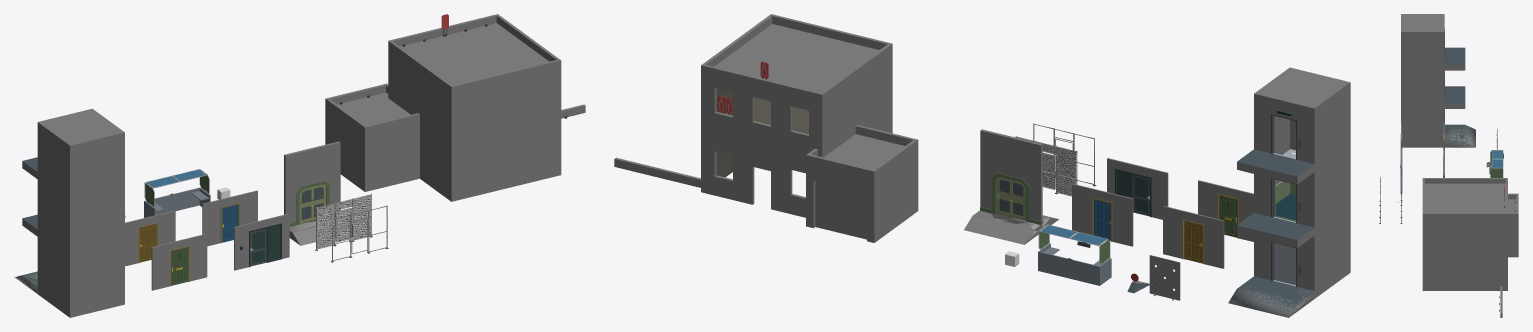
The model's file is FeatureDemoProps.FBX.
3 views of the same model, side by side, from view 1: azimuth 30°, elevation 25°; view 2: azimuth 150°, elevation 25°; view 3: azimuth 270°, elevation 25° (orthographic). The views are drawn at different scales.
Parts seen in each view (by area): view 1: Prop_FiringRangeBuilding, Prop_ElevatorDemo_Top, Prop_ElevatorDemo_Base, Prop_ElevatorDemo_Mid, Prop_SlidingDoorFrame01, Prop_HingeDoorFrame03, Prop_OfficeDoorFrame, Prop_FiringRangeStall, Prop_ChainlinkDoorFrame, Prop_HingeDoorFrame02, Prop_HingeDoorFrame01, Prop_SlidingDoor01 (+6 smaller); view 2: Prop_FiringRangeBuilding, Prop_ElevatorDemo_Top, Prop_ElevatorDemo_Mid, Prop_ElevatorDemo_Base, Prop_SlidingDoorFrame01, Prop_FiringRangeStall, Prop_HingeDoorFrame01, Prop_HingeDoorFrame02, Prop_OfficeDoorFrame, Prop_HingeDoorFrame03, PropPhysics_DemoElevator_Ramp, Prop_FiringRangeWhackAMole (+7 smaller); view 3: Prop_FiringRangeBuilding, Prop_ElevatorDemo_Top, Prop_ElevatorDemo_Base, Prop_ElevatorDemo_Mid, PropPhysics_DemoElevator_Ramp, Prop_FiringRangeStall, Prop_OfficeDoorFrame.
Part boxes in pixels (x1,y1,x2,y2): Prop_FiringRangeBuilding: [325, 14, 585, 201]; Prop_ElevatorDemo_Top: [22, 108, 124, 202]; Prop_ElevatorDemo_Base: [14, 237, 124, 317]; Prop_ElevatorDemo_Mid: [22, 180, 124, 260]; Prop_SlidingDoorFrame01: [284, 141, 343, 245]; Prop_HingeDoorFrame03: [151, 233, 207, 290]; Prop_OfficeDoorFrame: [234, 213, 289, 270]; Prop_FiringRangeStall: [144, 169, 210, 217]; Prop_ChainlinkDoorFrame: [315, 193, 372, 250]; Prop_HingeDoorFrame02: [202, 190, 257, 246]; Prop_HingeDoorFrame01: [125, 210, 175, 266]; Prop_SlidingDoor01: [299, 184, 326, 223]; Prop_FiringRangeBuilding: [614, 14, 918, 242]; Prop_ElevatorDemo_Top: [1237, 67, 1350, 184]; Prop_ElevatorDemo_Mid: [1237, 131, 1350, 247]; Prop_ElevatorDemo_Base: [1229, 209, 1350, 317]; Prop_SlidingDoorFrame01: [964, 129, 1058, 244]; Prop_FiringRangeStall: [1038, 224, 1111, 285]; Prop_HingeDoorFrame01: [1163, 206, 1224, 268]; Prop_HingeDoorFrame02: [1072, 183, 1133, 246]; Prop_OfficeDoorFrame: [1107, 158, 1168, 219]; Prop_HingeDoorFrame03: [1198, 180, 1253, 241]; PropPhysics_DemoElevator_Ramp: [1228, 276, 1313, 317]; Prop_FiringRangeWhackAMole: [1149, 255, 1180, 300]; Prop_FiringRangeBuilding: [1422, 178, 1518, 317]; Prop_ElevatorDemo_Top: [1401, 14, 1465, 70]; Prop_ElevatorDemo_Base: [1401, 109, 1475, 147]; Prop_ElevatorDemo_Mid: [1401, 70, 1465, 108]; PropPhysics_DemoElevator_Ramp: [1445, 124, 1475, 147]; Prop_FiringRangeStall: [1489, 150, 1503, 177]; Prop_OfficeDoorFrame: [1400, 149, 1402, 196].
Size of the model in its own units: 43 by 12 by 13.08.
